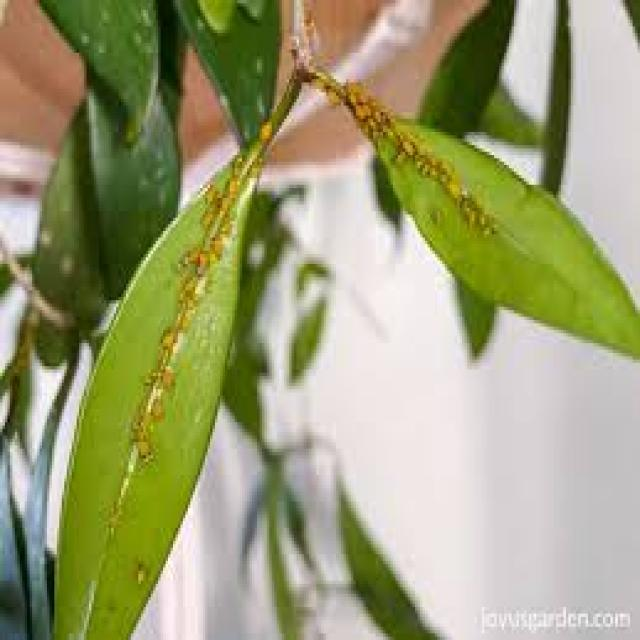aphid: (153, 320, 178, 350), (128, 554, 148, 591), (205, 224, 225, 261), (252, 112, 274, 142), (319, 79, 341, 109), (302, 69, 326, 96), (440, 172, 462, 201), (222, 168, 240, 201), (131, 429, 151, 458), (148, 390, 166, 422), (156, 363, 178, 389), (396, 132, 418, 158), (200, 178, 218, 208), (462, 201, 477, 234), (175, 307, 193, 333), (348, 96, 366, 122), (190, 244, 205, 274), (368, 99, 383, 129), (178, 270, 195, 294), (430, 201, 442, 231), (415, 155, 430, 178), (472, 205, 487, 228)
